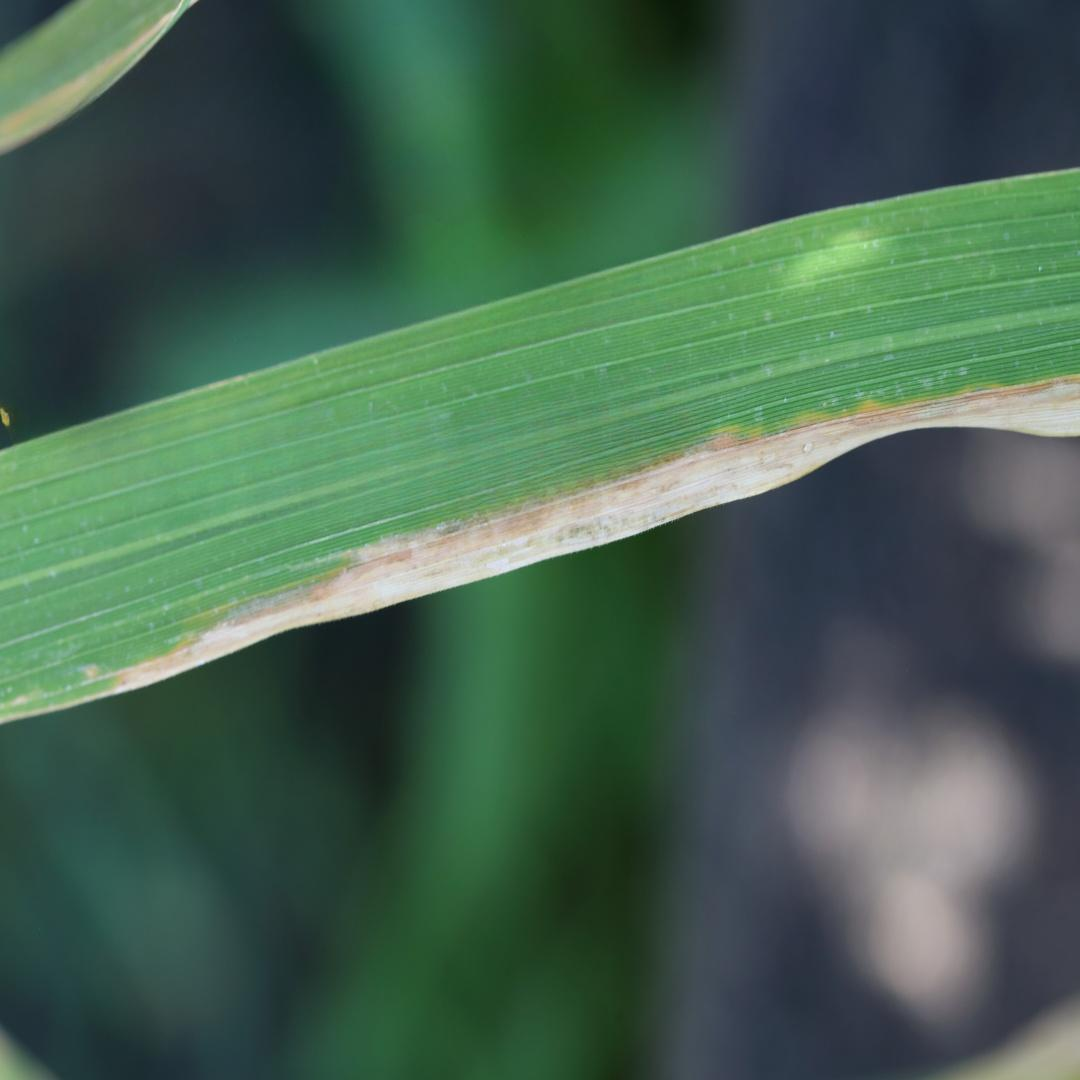BLB: (0, 376, 1079, 724)
LEAF: (0, 170, 1079, 724)
